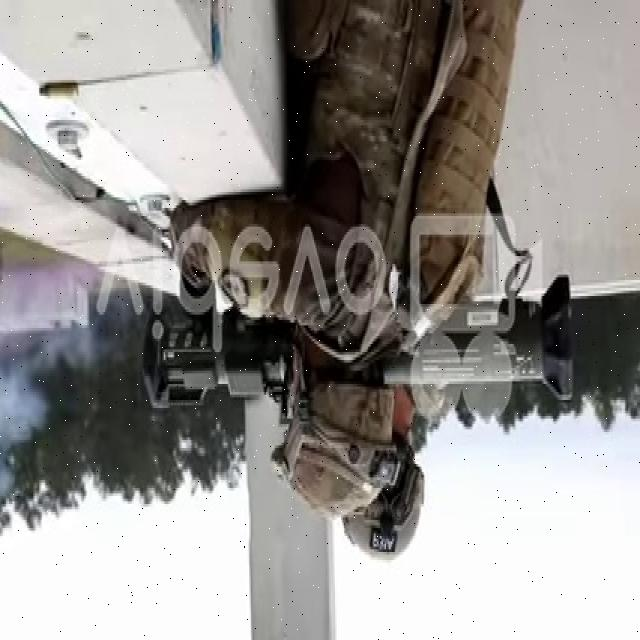bazooka: (143, 265, 584, 420)
